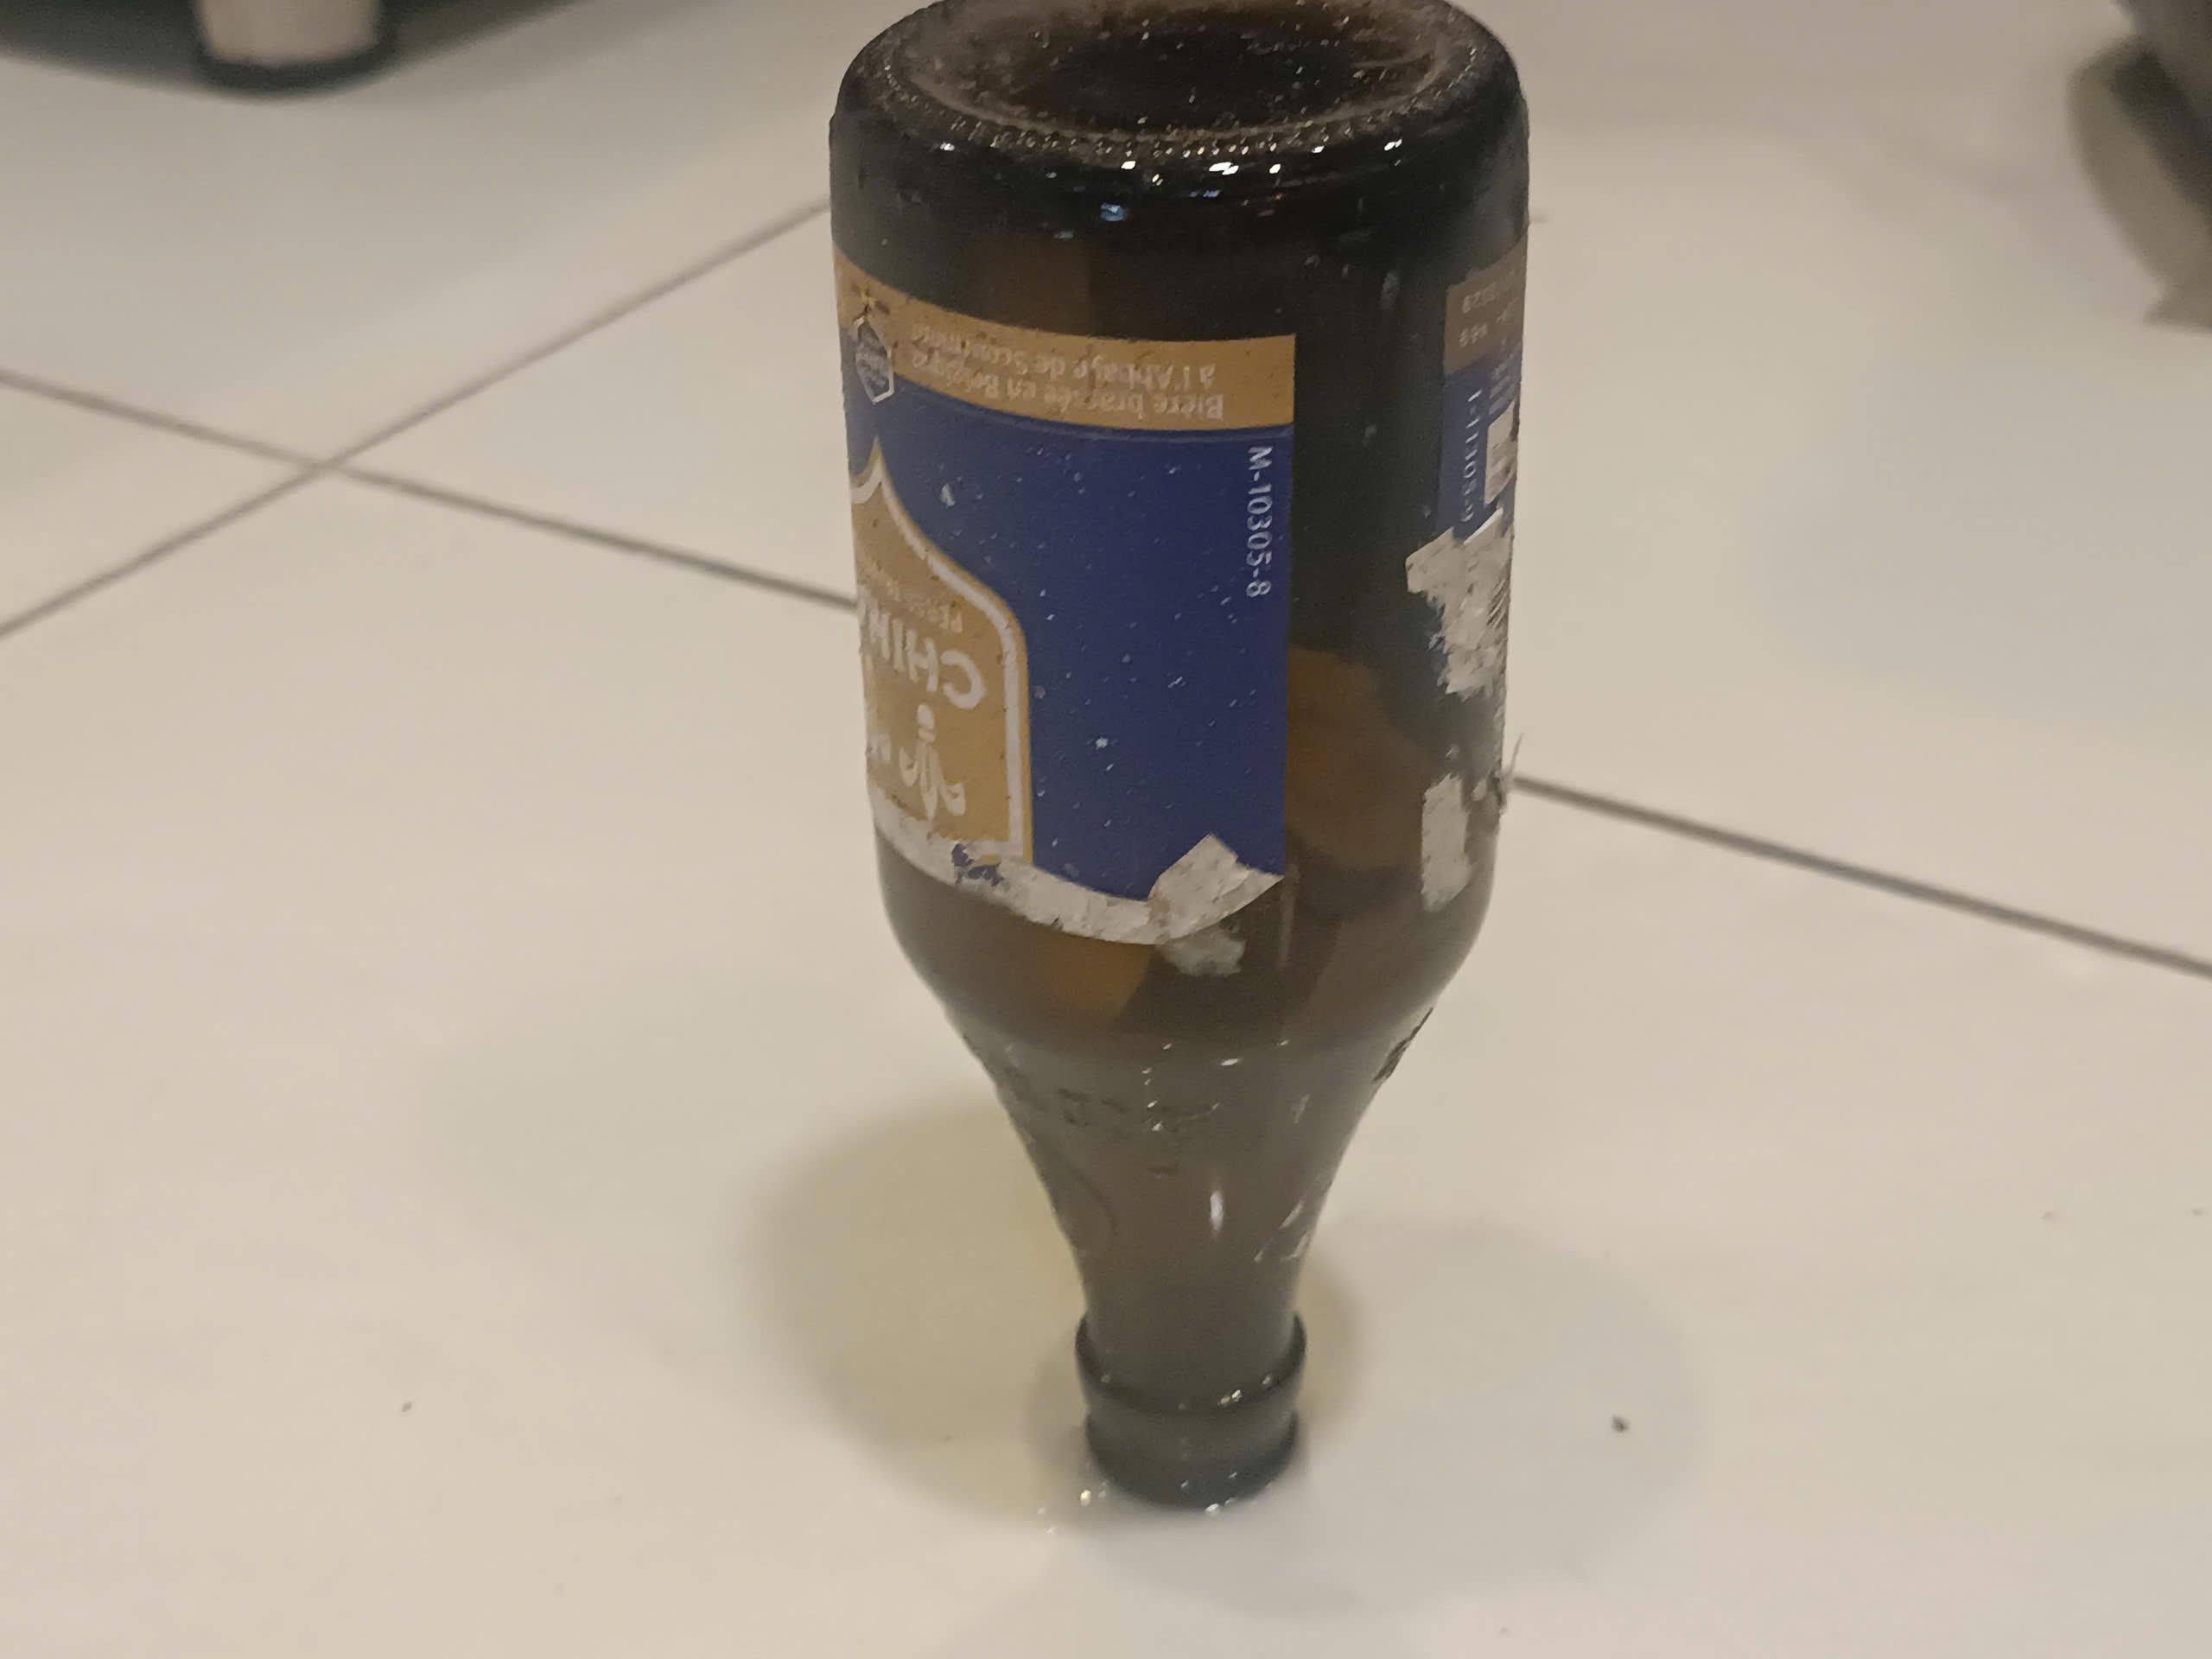Vo co: (829, 7, 1533, 1514)
